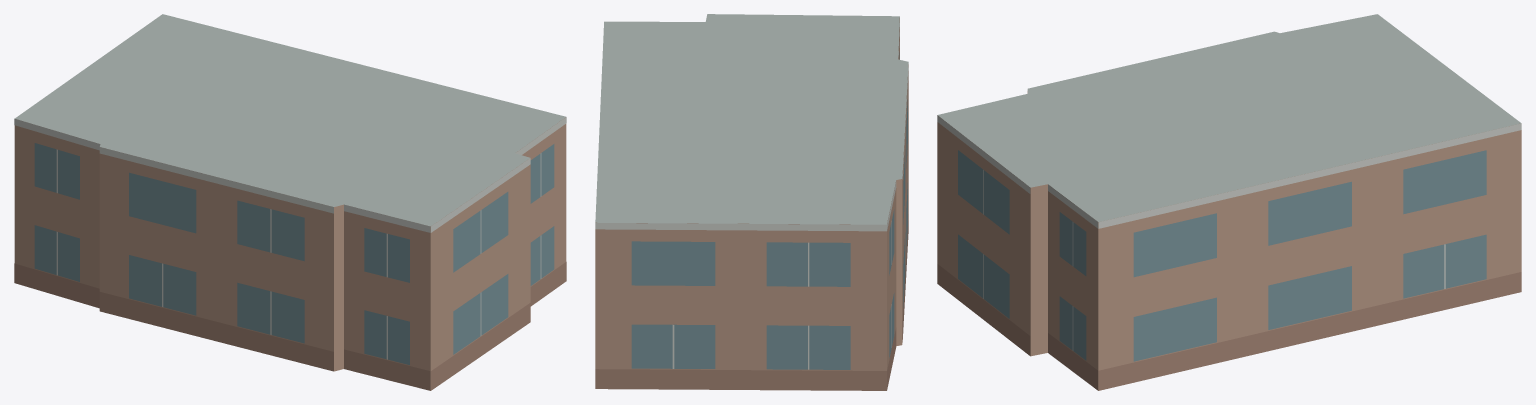
Rendered from survey-upis-32526746.glb.
The picture shows the model from 3 angles, left to right: view 1: azimuth 30°, elevation 25°; view 2: azimuth 150°, elevation 25°; view 3: azimuth 270°, elevation 25°; orthographic projection. The views are drawn at different scales.
Parts seen in each view (by area): view 1: survey-upis-32526746.tmp; view 2: survey-upis-32526746.tmp; view 3: survey-upis-32526746.tmp.
Part boxes in pixels (x1,y1,x2,y2): survey-upis-32526746.tmp: [14, 14, 566, 390]; survey-upis-32526746.tmp: [595, 14, 908, 390]; survey-upis-32526746.tmp: [937, 14, 1521, 390].
Size of the model in its own units: 16.15 by 6.1 by 19.16.
